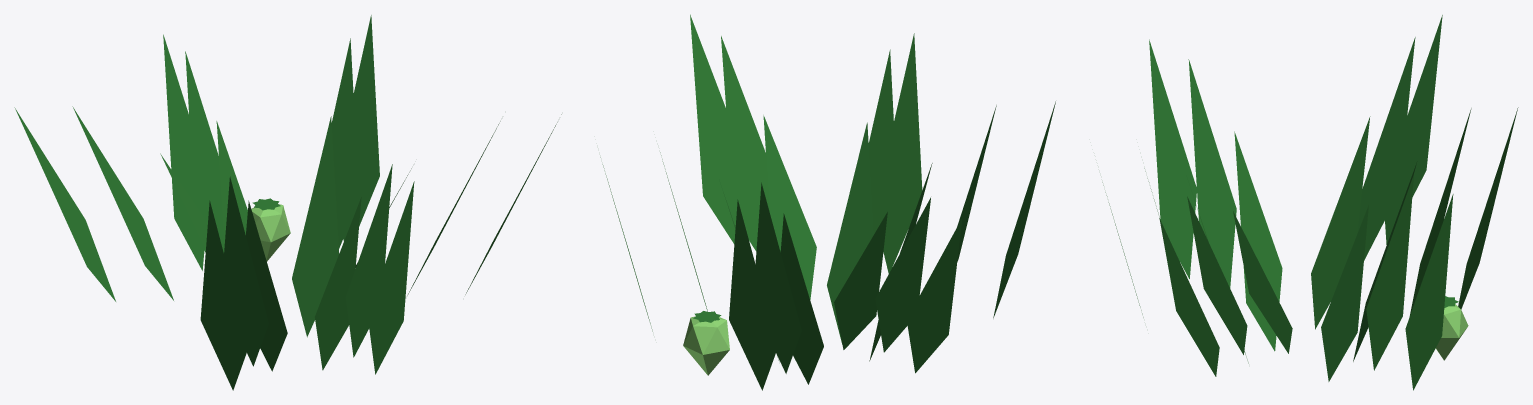
The model's file is strawberry_stage_2.glb.
The picture shows the model from 3 angles, left to right: view 1: azimuth 30°, elevation 25°; view 2: azimuth 150°, elevation 25°; view 3: azimuth 270°, elevation 25°; orthographic projection.
Visible parts, largest first — view 1: Plane.021, Plane.014, Plane.017, Plane.008, Plane.025, Plane.016, Plane.019, Plane.024, Plane.009, Plane.020, Plane.015, Plane.010 (+4 smaller); view 2: Plane.018, Plane.023, Plane.016, Plane.017, Plane.009, Plane.015, Plane.020, Plane.010, Plane.024, Plane.022, Plane.011, Plane.013 (+4 smaller); view 3: Plane.014, Plane.008, Plane.010, Plane.011, Plane.019, Plane.025, Plane.015, Plane.021, Plane.012, Plane.023, Plane.018, Plane.022 (+4 smaller).
Boxes of the visible parts, left/top/right/bottom form: Plane.021: left=292, top=116, right=339, bottom=337; Plane.014: left=200, top=200, right=248, bottom=390; Plane.017: left=367, top=181, right=414, bottom=374; Plane.008: left=224, top=176, right=268, bottom=366; Plane.025: left=331, top=38, right=359, bottom=248; Plane.016: left=163, top=34, right=204, bottom=270; Plane.019: left=343, top=15, right=379, bottom=240; Plane.024: left=345, top=164, right=392, bottom=357; Plane.009: left=185, top=51, right=224, bottom=252; Plane.020: left=314, top=197, right=361, bottom=370; Plane.015: left=14, top=107, right=115, bottom=301; Plane.010: left=72, top=106, right=173, bottom=300; Plane.018: left=690, top=14, right=735, bottom=243; Plane.023: left=721, top=36, right=769, bottom=250; Plane.016: left=729, top=199, right=777, bottom=390; Plane.017: left=883, top=33, right=922, bottom=273; Plane.009: left=755, top=182, right=801, bottom=373; Plane.015: left=906, top=218, right=962, bottom=373; Plane.020: left=827, top=122, right=873, bottom=343; Plane.010: left=875, top=197, right=930, bottom=352; Plane.024: left=868, top=49, right=898, bottom=245; Plane.022: left=763, top=115, right=816, bottom=299; Plane.011: left=834, top=212, right=887, bottom=349; Plane.013: left=780, top=213, right=823, bottom=384; Plane.014: left=1149, top=39, right=1196, bottom=278; Plane.008: left=1188, top=59, right=1236, bottom=287; Plane.010: left=1357, top=37, right=1415, bottom=260; Plane.011: left=1311, top=116, right=1370, bottom=329; Plane.019: left=1405, top=194, right=1453, bottom=390; Plane.025: left=1366, top=173, right=1414, bottom=370; Plane.015: left=1385, top=15, right=1442, bottom=244; Plane.021: left=1321, top=205, right=1368, bottom=381; Plane.012: left=1234, top=131, right=1282, bottom=351; Plane.023: left=1187, top=196, right=1247, bottom=354; Plane.018: left=1159, top=218, right=1219, bottom=376; Plane.022: left=1233, top=211, right=1292, bottom=353.
Size of the model in its own units: 0.8447 by 0.4871 by 0.76.
